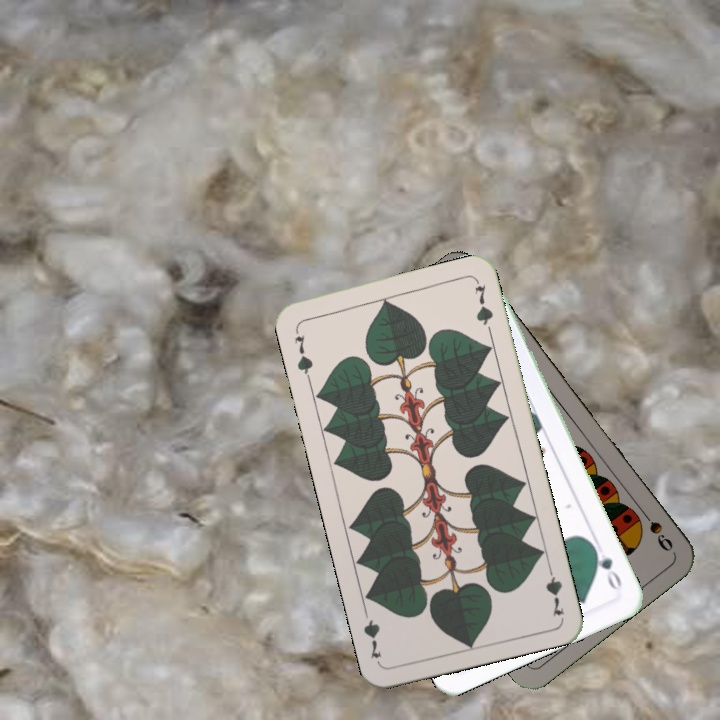G7: (541, 560, 567, 619), (290, 331, 316, 382)
GO: (588, 541, 625, 595)
S9: (634, 503, 676, 554)
